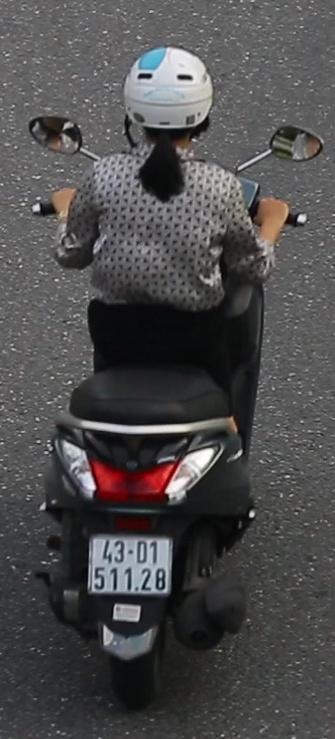LP: (85, 527, 178, 602)
helmet: (117, 39, 218, 169)
